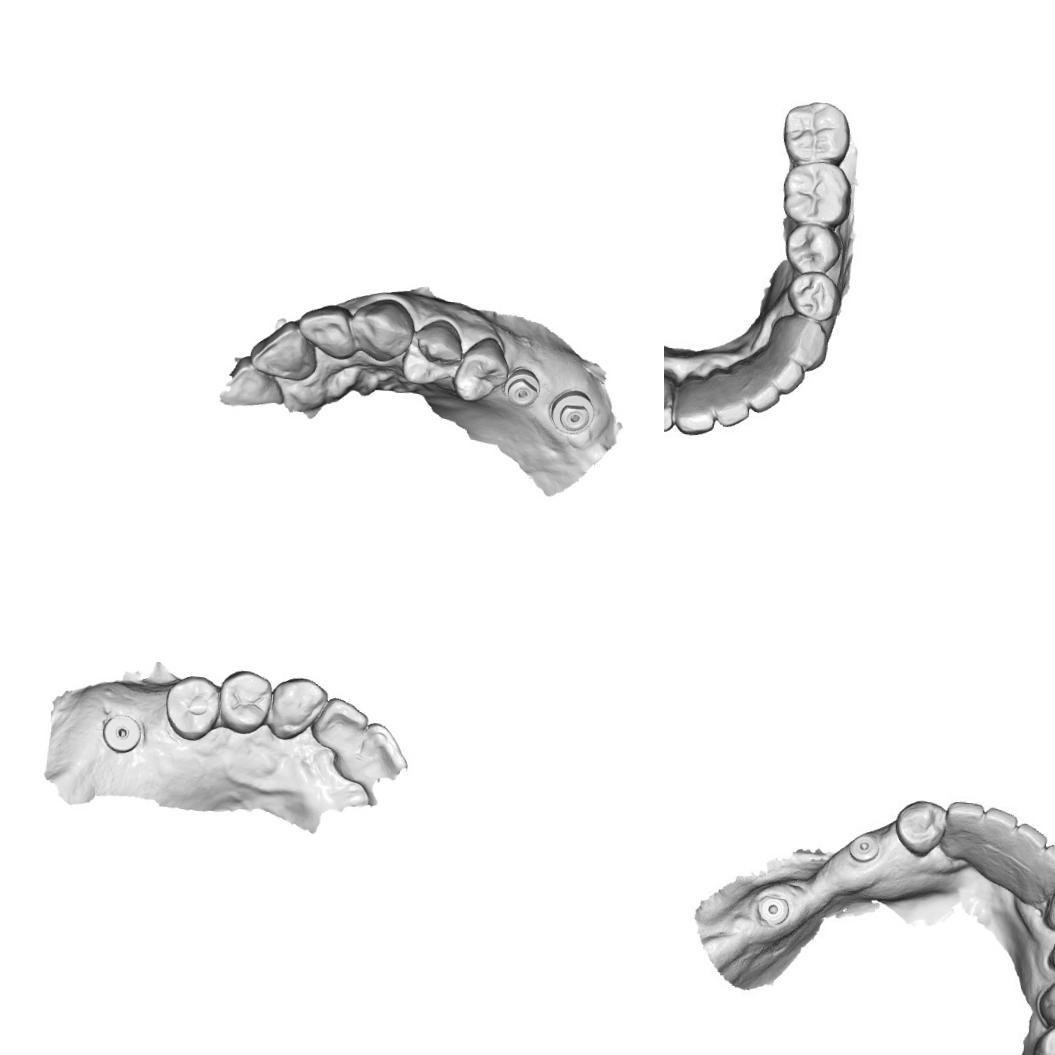canine: (348, 294, 416, 367), (266, 673, 329, 743), (894, 794, 944, 862), (770, 311, 830, 367), (664, 369, 679, 433), (1041, 875, 1055, 936)
implant: (552, 388, 594, 436), (99, 712, 143, 754), (502, 364, 542, 408), (754, 886, 788, 926), (850, 831, 886, 866)
incisor: (330, 717, 412, 788), (246, 316, 320, 384), (294, 300, 356, 364), (307, 694, 370, 752), (218, 354, 288, 406), (674, 372, 720, 435), (706, 368, 753, 426), (752, 344, 808, 390), (940, 801, 982, 854), (736, 362, 782, 410), (980, 802, 1020, 855), (1011, 824, 1048, 867), (1031, 840, 1055, 886)
molar: (780, 158, 849, 224), (784, 100, 848, 164)
premolar: (398, 314, 464, 396), (449, 334, 510, 408), (162, 672, 222, 742), (216, 666, 274, 737), (786, 219, 841, 274), (790, 271, 846, 319), (1038, 968, 1055, 1027)
